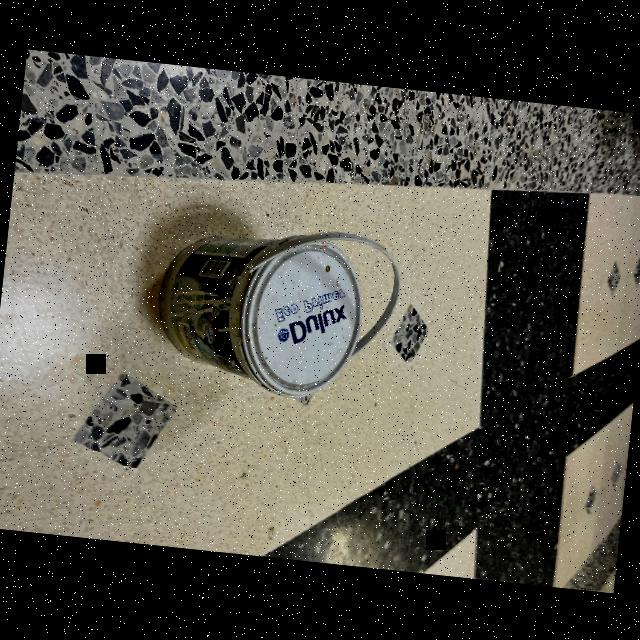paint_bucket: (140, 190, 407, 418)
